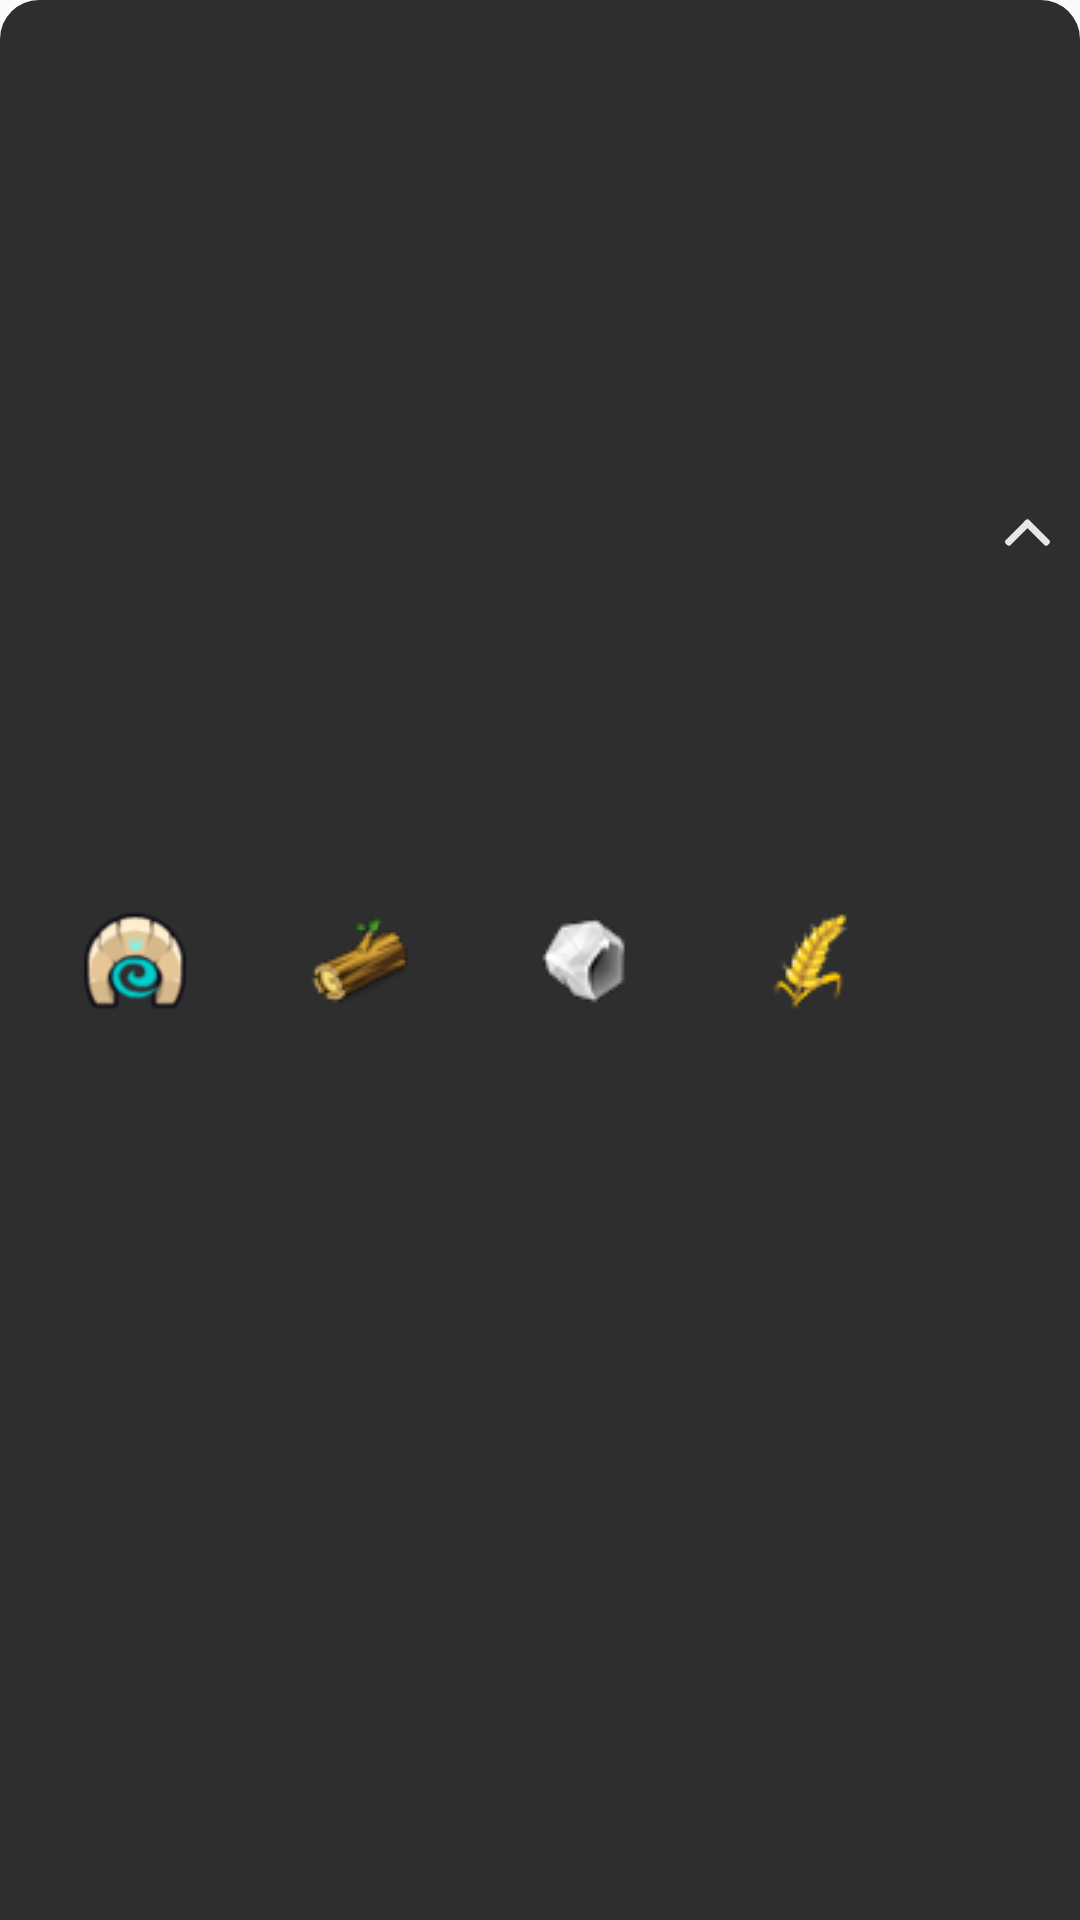

Named icons in this screenshot (1080w x 1920h) and their centers, point (x, y):
ble: point (810, 961)
fer: point (583, 961)
frene: point (359, 960)
zaap: point (135, 960)
